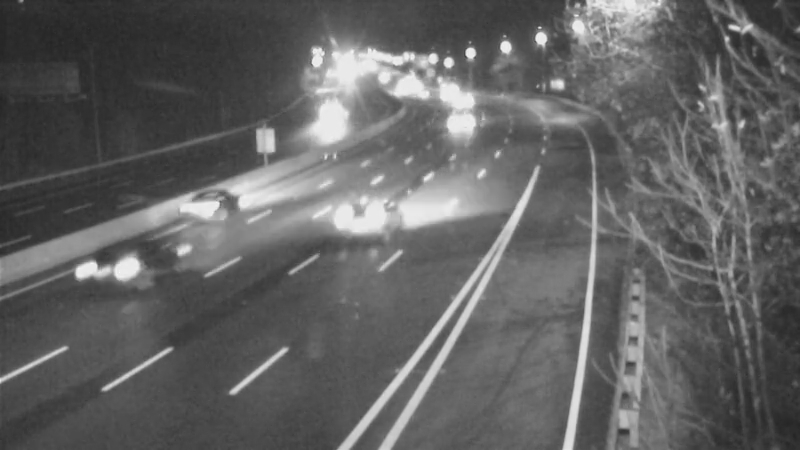vehicle: (322, 177, 402, 257), (164, 162, 244, 242), (73, 232, 153, 312), (380, 65, 430, 115), (423, 70, 473, 120), (434, 73, 484, 123), (435, 97, 485, 147), (309, 86, 359, 136)
